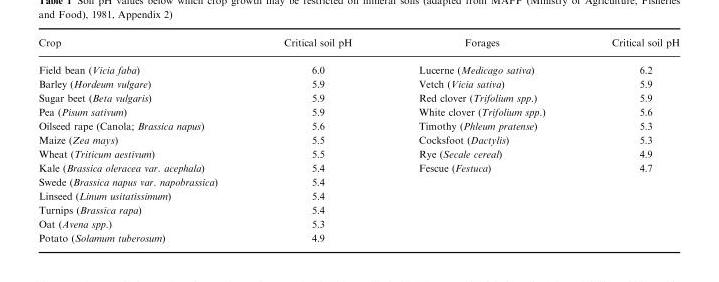table: (37, 37, 679, 242)
table column: (37, 37, 250, 242), (384, 37, 577, 242), (250, 37, 384, 242), (577, 37, 679, 242)
table column header: (37, 37, 679, 56)
table row: (37, 56, 679, 76), (37, 37, 679, 56), (37, 76, 679, 90), (37, 90, 679, 104), (37, 104, 679, 118), (37, 118, 679, 132), (37, 132, 679, 146), (37, 146, 679, 160), (37, 160, 679, 174), (37, 174, 679, 188), (37, 188, 679, 202), (37, 202, 679, 216), (37, 216, 679, 230), (37, 230, 679, 242)
